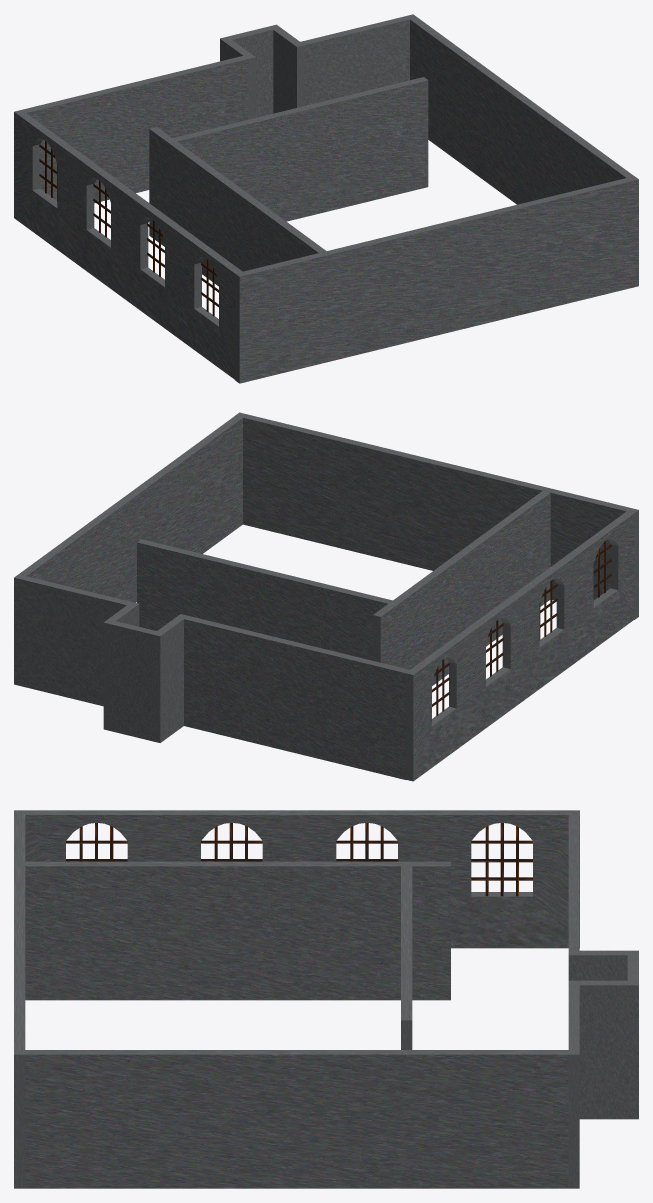
File: wall_exported.fbx
3 renders of one model, top to bottom at view 1: azimuth 30°, elevation 25°; view 2: azimuth 150°, elevation 25°; view 3: azimuth 270°, elevation 25°, orthographic. The views are drawn at different scales.
Parts seen in each view (by area): view 1: indoor_Scene_5:polySurface101; view 2: indoor_Scene_5:polySurface101; view 3: indoor_Scene_5:polySurface101.
Part boxes in pixels (x1,y1,x2,y2): indoor_Scene_5:polySurface101: (14,14,638,383); indoor_Scene_5:polySurface101: (14,412,638,781); indoor_Scene_5:polySurface101: (14,810,638,1188).
Bounding box in the file's own units: 51.37 × 13.13 × 55.51.
